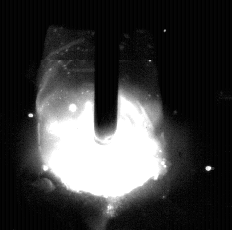arame: (95, 0, 119, 139)
poca: (38, 0, 166, 230)
